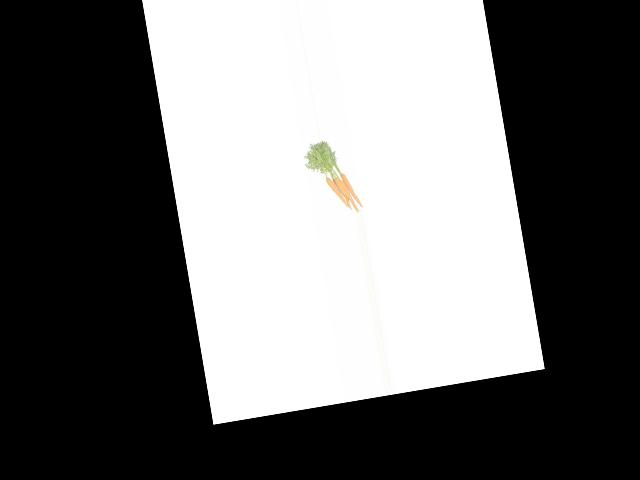carrot: (338, 168, 366, 211)
